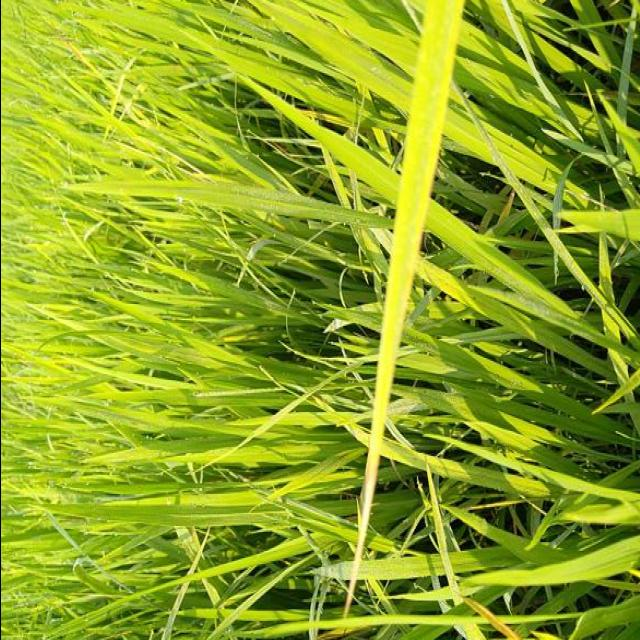Leaf Streak: (344, 0, 457, 618)
